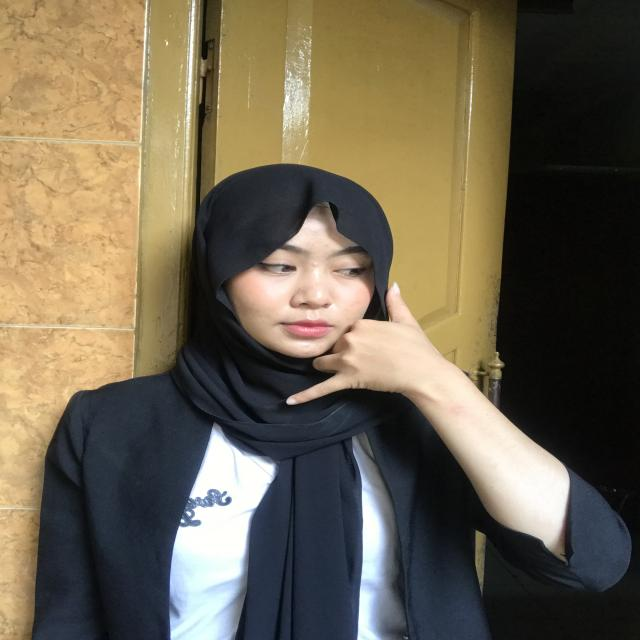telpon: (292, 284, 430, 421)
